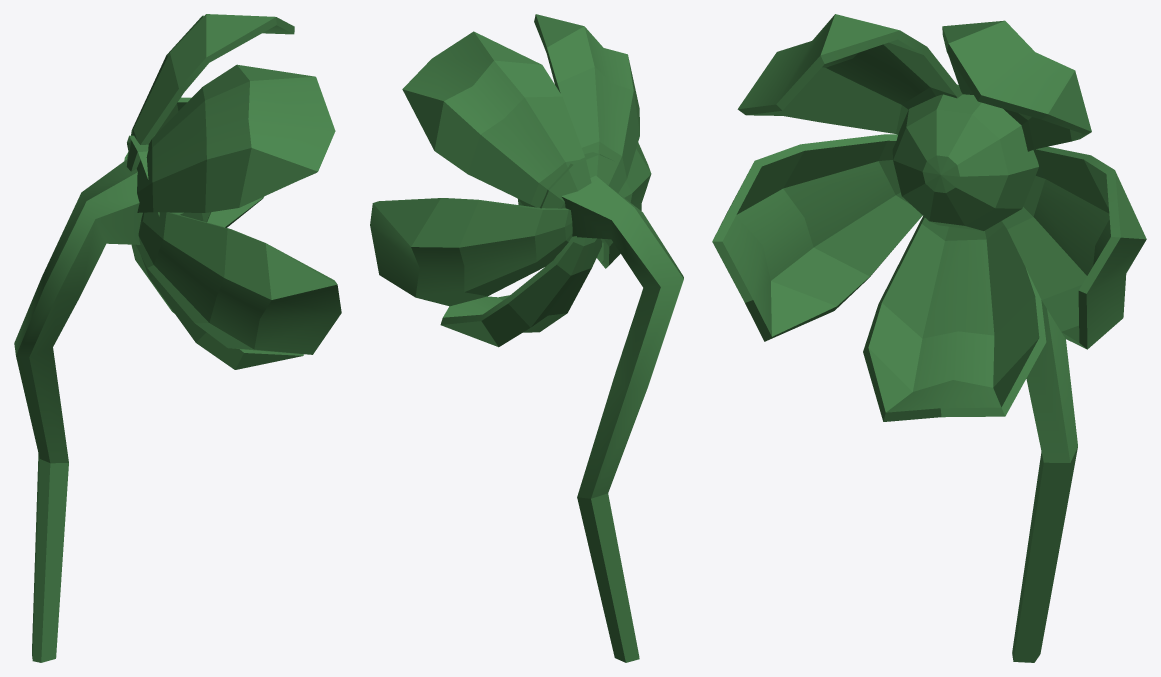
Rendered from flower 4.fbx.
3 renders of one model, left to right at view 1: azimuth 30°, elevation 25°; view 2: azimuth 150°, elevation 25°; view 3: azimuth 270°, elevation 25°, orthographic. The views are drawn at different scales.
Parts seen in each view (by area): view 1: polySurface527; view 2: polySurface527; view 3: polySurface527.
Part boxes in pixels (x1=…): polySurface527: x1=14, y1=14, x2=341, y2=662; polySurface527: x1=370, y1=14, x2=683, y2=662; polySurface527: x1=712, y1=14, x2=1146, y2=662.
Bounding box in the file's own units: 2.25 × 4.61 × 2.49.
